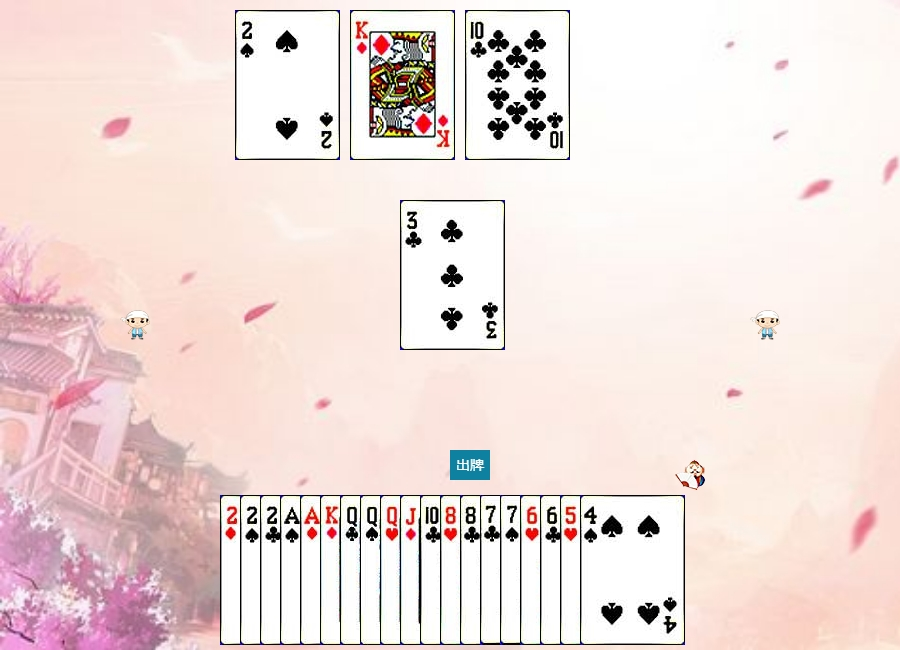10~2: (465, 10, 570, 160), (420, 495, 525, 645)
11~1: (400, 495, 505, 645)
12~2: (340, 495, 445, 645)
12~3: (380, 495, 485, 645)
12~4: (360, 495, 465, 645)
13~1: (350, 10, 455, 160), (320, 495, 425, 645)
14~1: (300, 495, 405, 645)
14~4: (280, 495, 385, 645)
15~1: (220, 495, 325, 645)
15~2: (260, 495, 365, 645)
15~4: (235, 10, 340, 160), (240, 495, 345, 645)
3~2: (400, 200, 505, 350)
4~4: (580, 495, 685, 645)
5~3: (560, 495, 665, 645)
6~2: (540, 495, 645, 645)
6~3: (520, 495, 625, 645)
7~2: (480, 495, 585, 645)
7~4: (500, 495, 605, 645)
8~2: (460, 495, 565, 645)
8~3: (440, 495, 545, 645)
